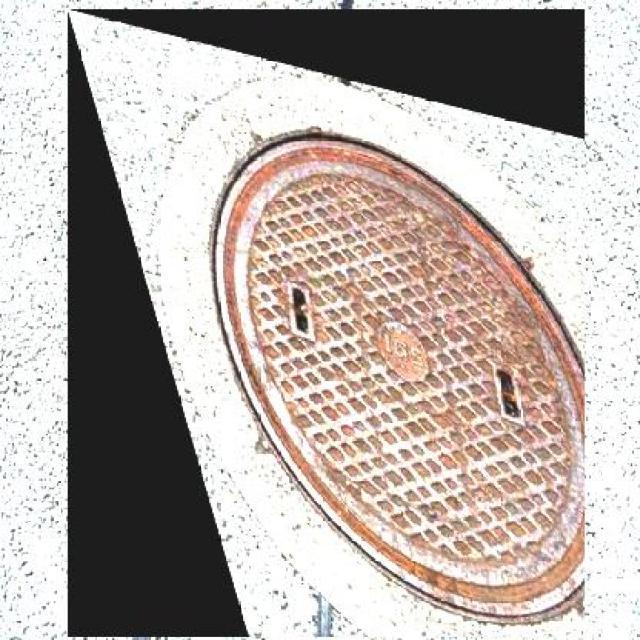Manhole: (68, 9, 584, 637)
